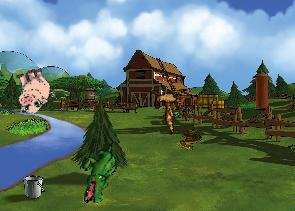crocodile: (79, 142, 119, 204)
eagle: (139, 76, 197, 135)
pig: (8, 64, 57, 116)
